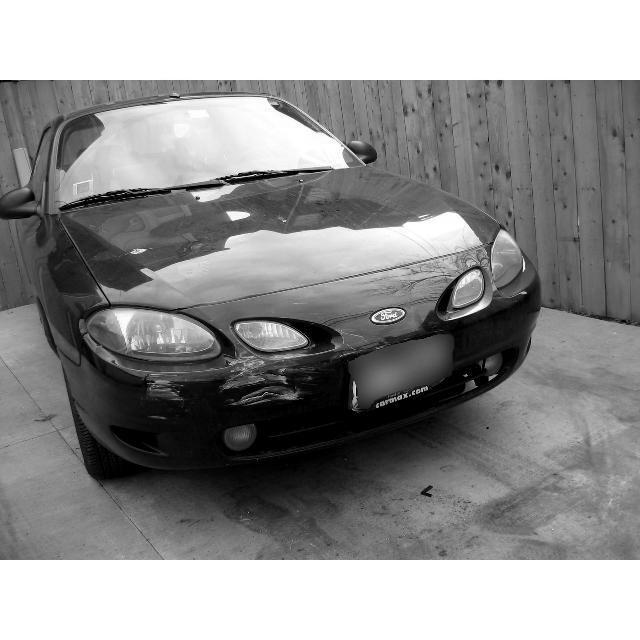front-bumper-dent: (121, 323, 341, 453)
